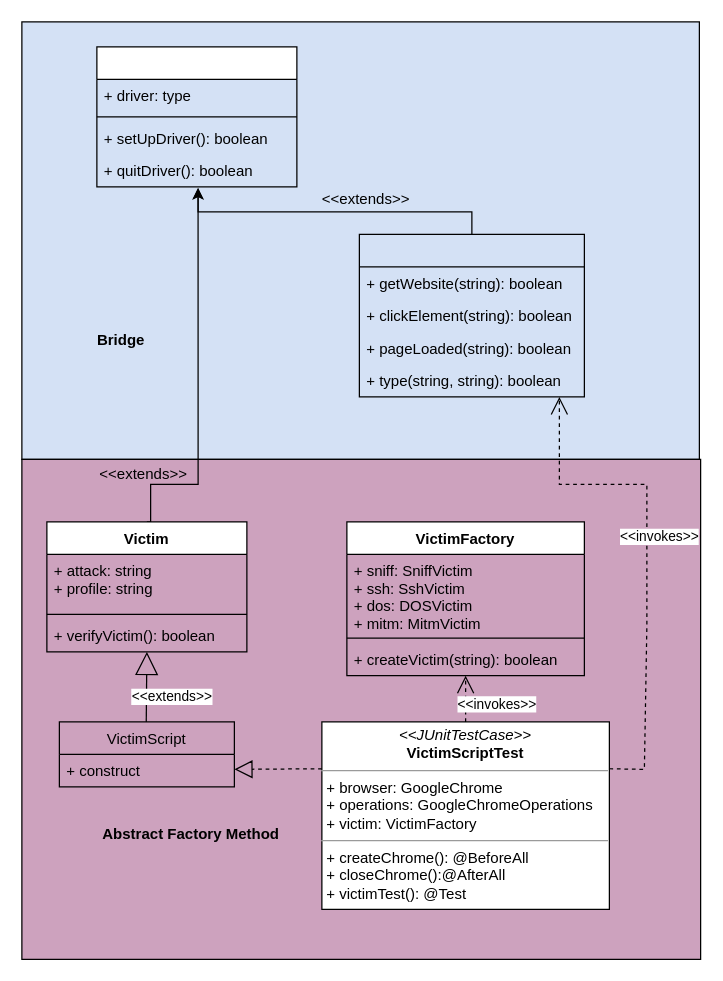
The diagram is 723 pixels wide and 981 high, and some of its shapes have lost their labels. The shapes that lost their labels are listed below. From the top down, each one's box as (x1, y1, x2, y2) in pixels, then its label:
(96, 46, 297, 187): GoogleChrome
(358, 233, 584, 397): GoogleChromeOperations
